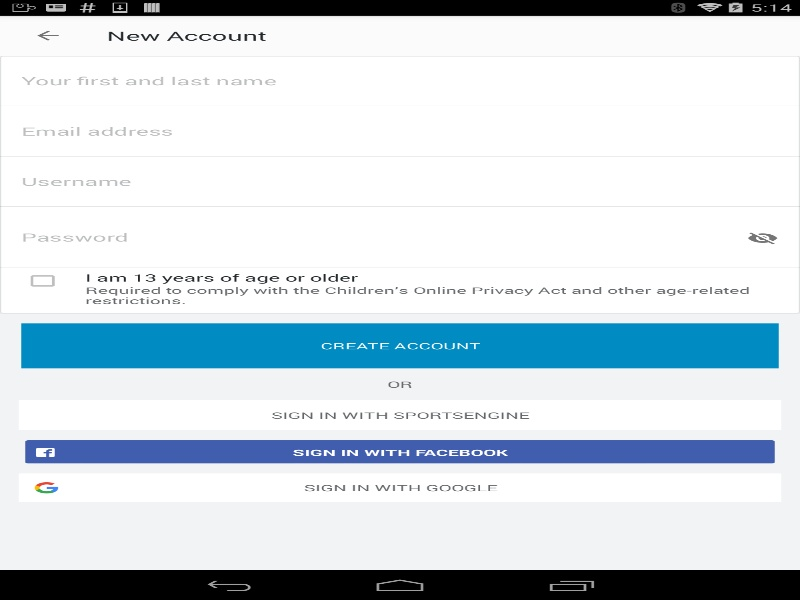Button: (18, 400, 781, 430), (21, 330, 778, 360), (18, 473, 781, 502), (25, 440, 774, 463), (10, 15, 85, 55), (725, 221, 800, 251)
Input: (0, 170, 800, 190), (0, 70, 800, 89), (0, 120, 800, 139), (0, 226, 800, 245)
